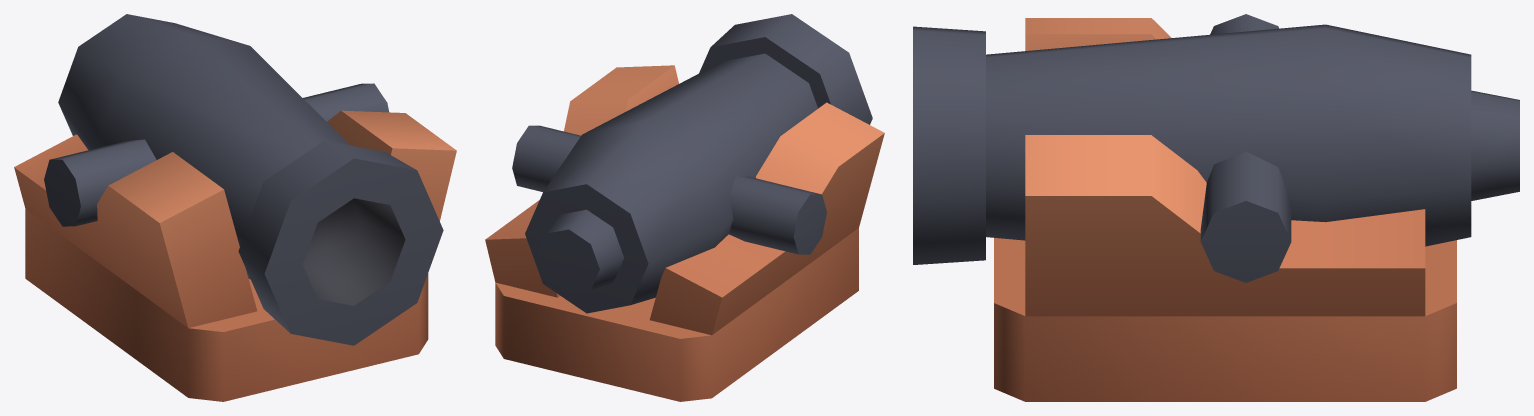
Rendered from cannon.glb.
3 views of the same model, side by side, from view 1: azimuth 30°, elevation 25°; view 2: azimuth 150°, elevation 25°; view 3: azimuth 270°, elevation 25° (orthographic). The views are drawn at different scales.
Parts seen in each view (by area): view 1: cannon, Group (×2); view 2: cannon, Group (×2); view 3: cannon, Group (×2).
Part boxes in pixels (x1,y1,x2,y2): cannon: [25, 14, 443, 401]; Group (×2): [14, 110, 456, 327]; cannon: [495, 14, 872, 401]; Group (×2): [485, 65, 884, 335]; cannon: [913, 14, 1519, 401]; Group (×2): [1025, 18, 1425, 316].
Size of the model in its own units: 1.4 by 1.05 by 1.92.
1 material, 1 textured.
